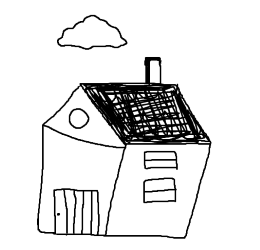chimney: (138, 51, 169, 92)
closed_window: (139, 175, 181, 206), (139, 147, 183, 173)
clouds: (56, 14, 127, 50)
door: (49, 181, 103, 239)
shaded_roof: (42, 83, 210, 147)
wall: (32, 76, 129, 240)
